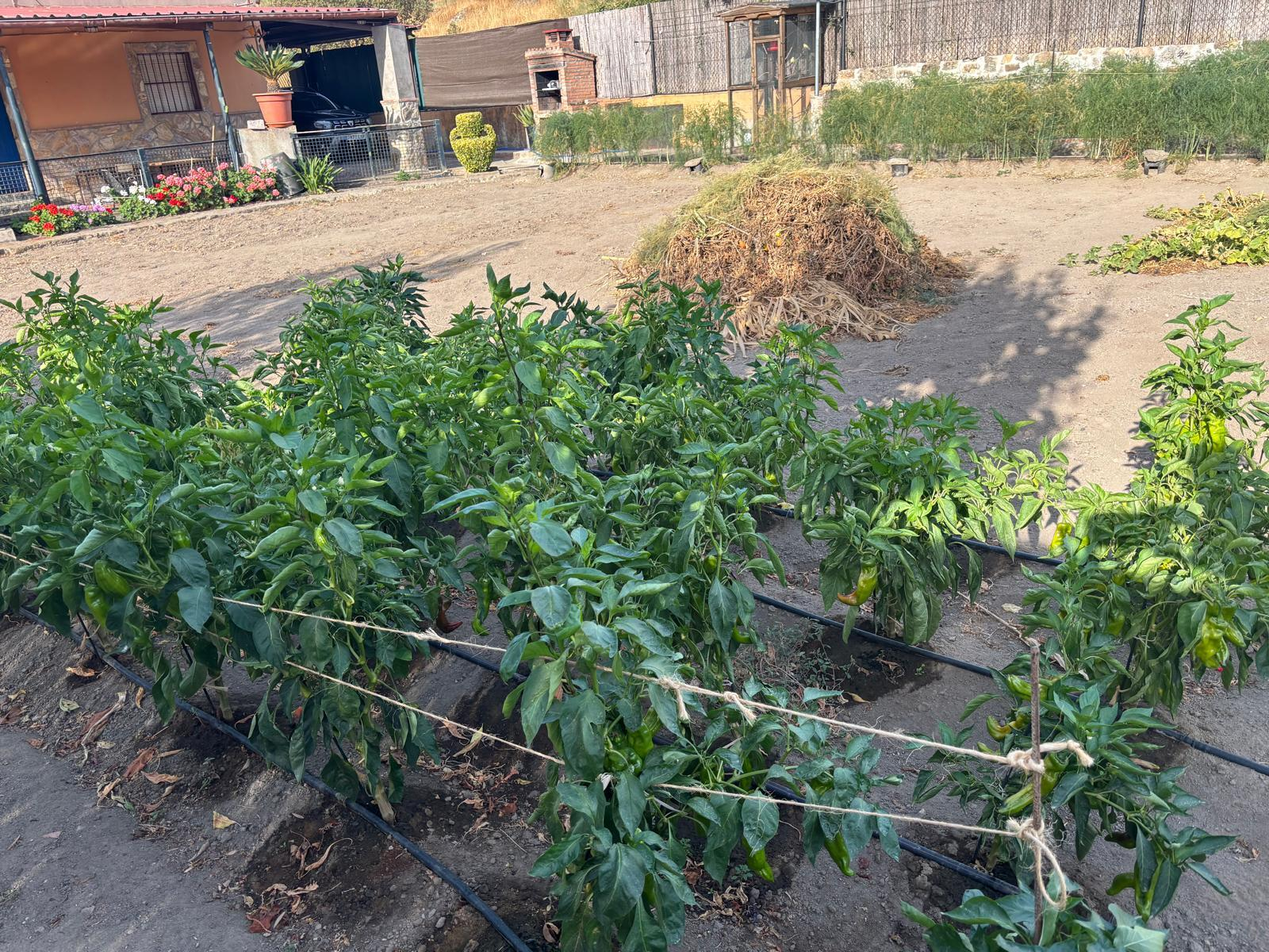pimientera: (135, 340, 1128, 865)
